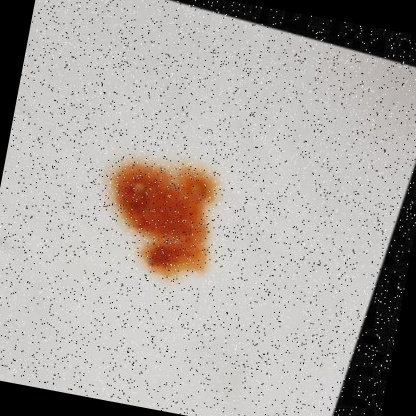kimchi: (92, 150, 227, 293)
